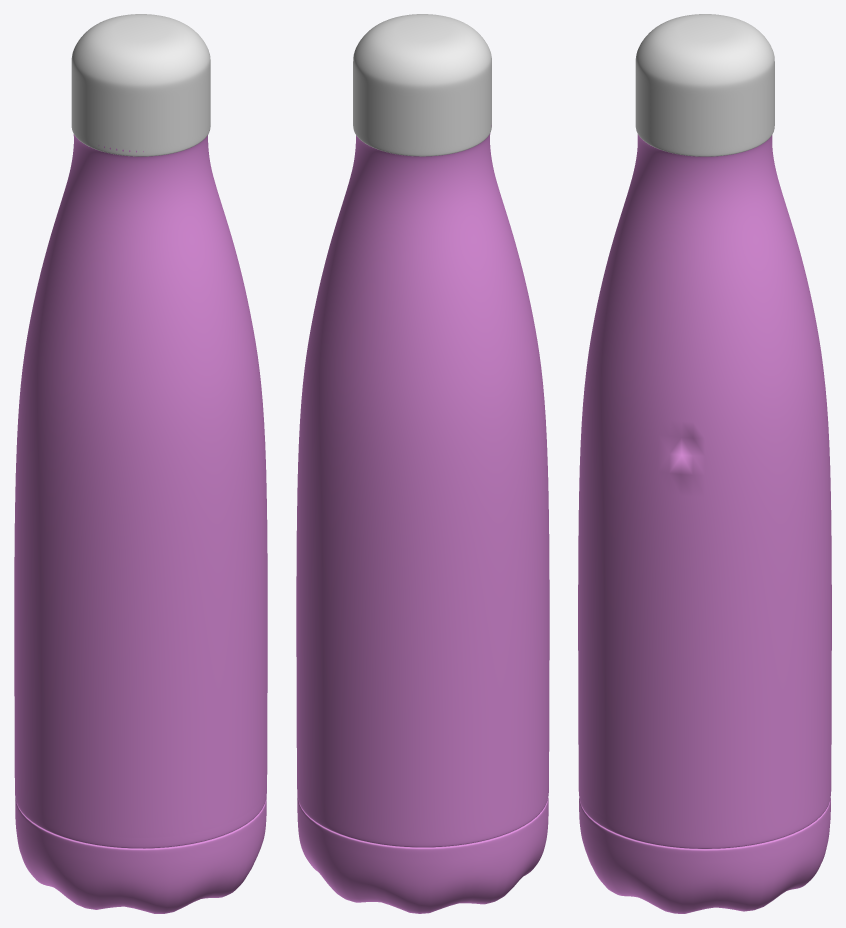
File: bottle_22_05_2020.gltf
3 views of the same model, side by side, from view 1: azimuth 30°, elevation 25°; view 2: azimuth 150°, elevation 25°; view 3: azimuth 270°, elevation 25° (orthographic).
Parts seen in each view (by area): view 1: body, cap; view 2: body, cap; view 3: body, cap.
Part boxes in pixels (bbox=[...]): body: bbox=[14, 134, 267, 913]; cap: bbox=[71, 14, 210, 156]; body: bbox=[296, 125, 549, 913]; cap: bbox=[353, 14, 491, 156]; body: bbox=[578, 134, 831, 913]; cap: bbox=[635, 14, 774, 156].
Bounding box in the file's own units: 0.5395 × 1.99 × 0.5395.
